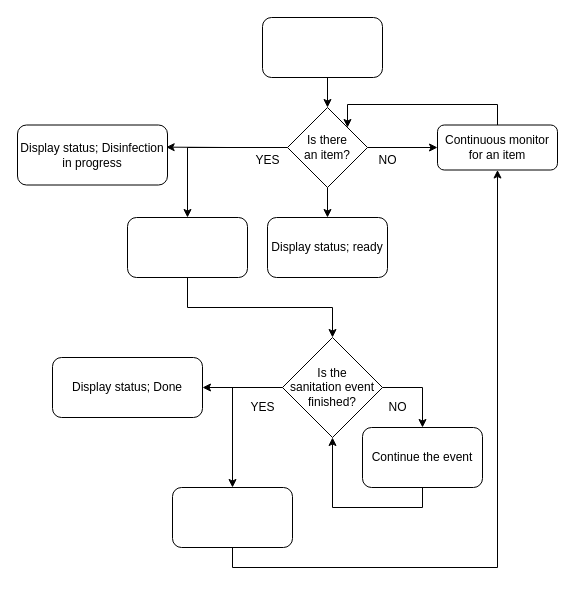
Image size: 575x593. Some labels were removed from this diagram. The box of each missing label's shape, as (x1, y1, x2, y2) in pixels:
Conveyor Belt: (262, 16, 382, 78)
Move item to the opposite end: (172, 486, 292, 548)
Sanitation event triggered: (126, 216, 248, 278)
